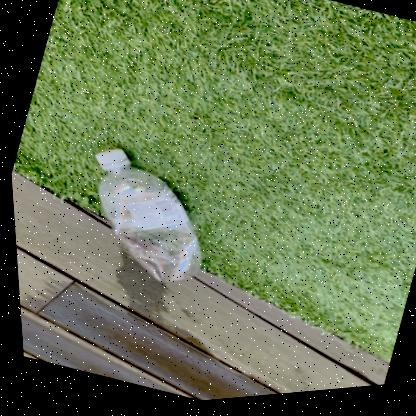Plastic: (93, 151, 197, 283)
